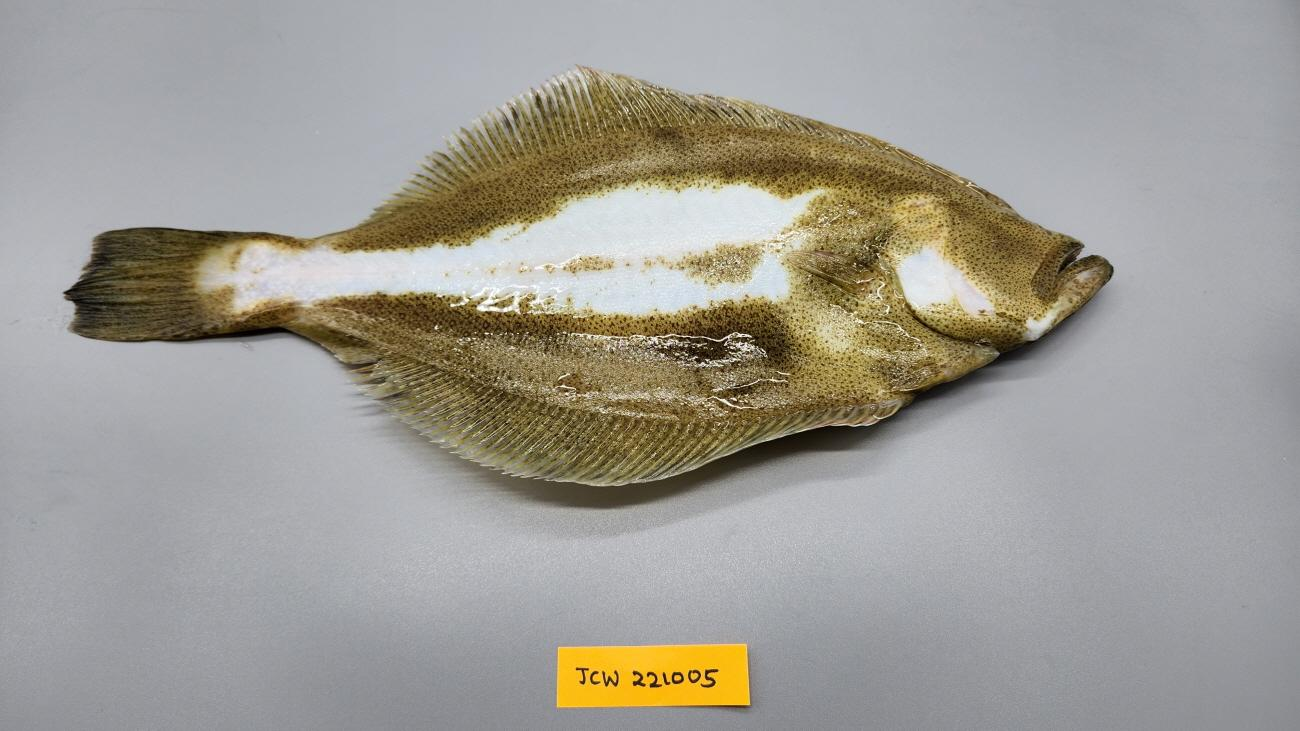POOUN: (64, 62, 1117, 490)
